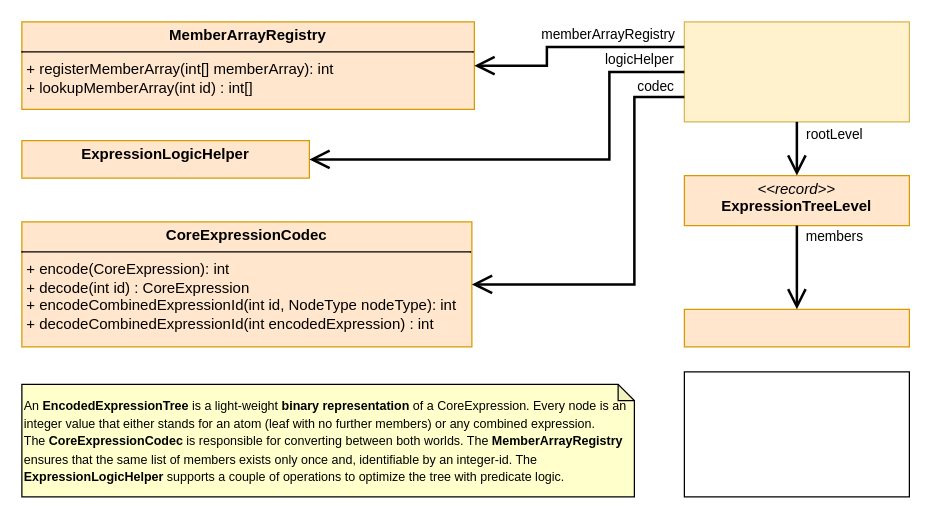
The diagram is 931 pixels wide and 519 high, and some of its shapes have lost their labels. Here are the shapes that lost their labels. From the top down, the centre of each, then its label:
the point at 796,71: EncodedExpressionTree
the point at 796,327: GrowingIntArray
the point at 796,434: <<enum>> NodeType + LEAF + AND + OR
